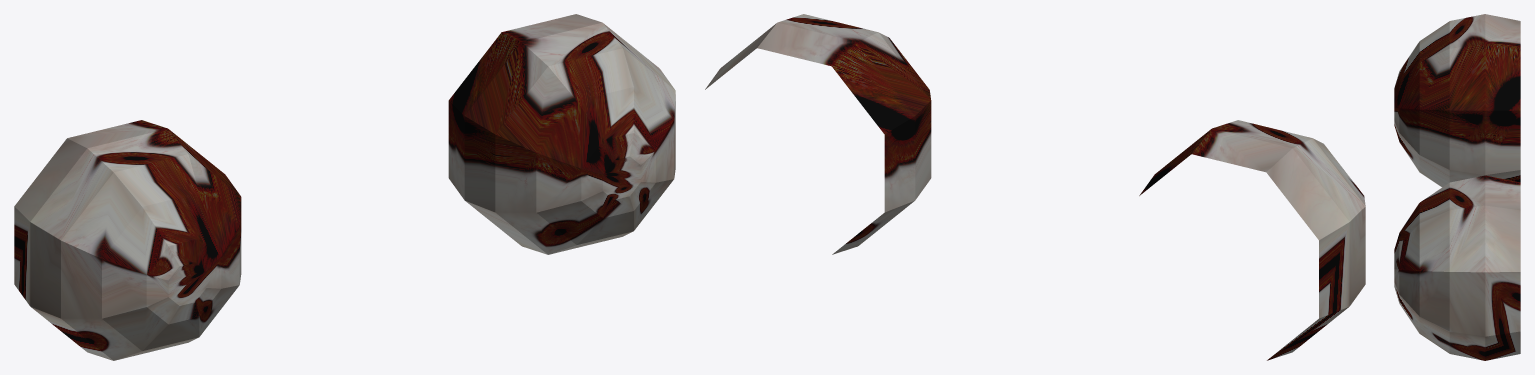
The model's file is aline-eyes-v2.glb.
3 renders of one model, left to right at view 1: azimuth 30°, elevation 25°; view 2: azimuth 150°, elevation 25°; view 3: azimuth 270°, elevation 25°, orthographic. The views are drawn at different scales.
Parts seen in each view (by area): view 1: geometry_0; view 2: geometry_0; view 3: geometry_0.
Boxes of the visible parts, x1,y1,x2,y2 form: geometry_0: [14, 14, 675, 360]; geometry_0: [705, 14, 1365, 360]; geometry_0: [1394, 14, 1520, 360].
Bounding box in the file's own units: 1.52 × 0.4704 × 0.3471.
1 material, 1 textured.
